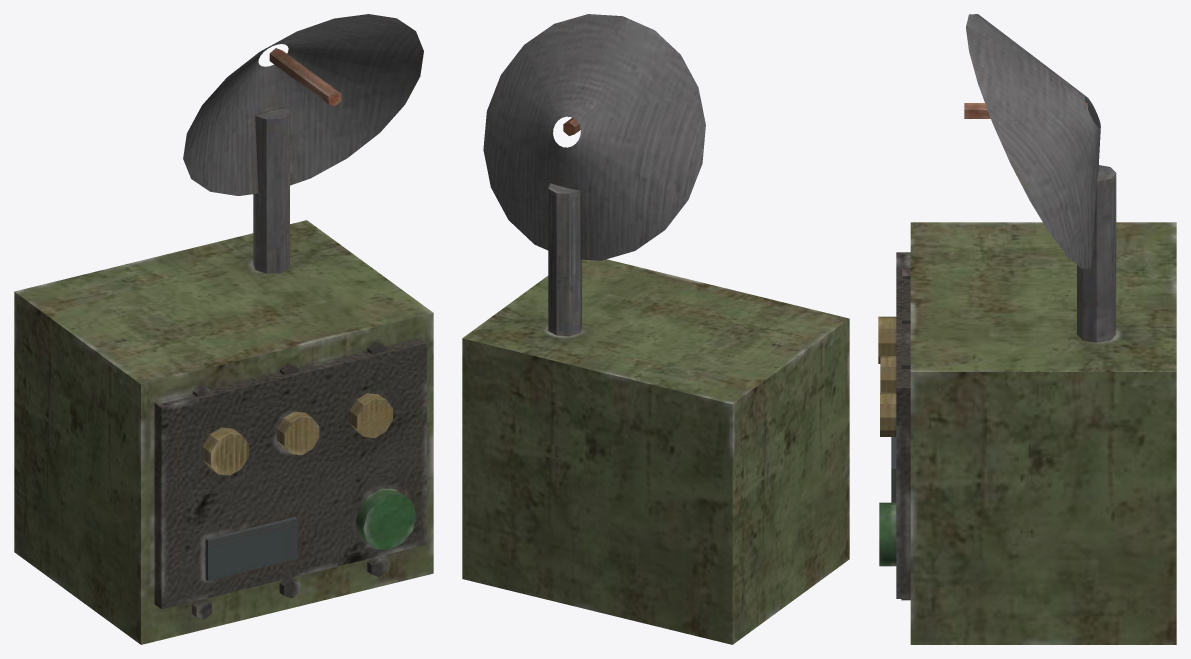
The model's file is feWirelessRx.glb.
3 views of the same model, side by side, from view 1: azimuth 30°, elevation 25°; view 2: azimuth 150°, elevation 25°; view 3: azimuth 270°, elevation 25° (orthographic). The views are drawn at different scales.
Visible parts, largest first — view 1: feWirelessRx_Base; view 2: feWirelessRx_Base; view 3: feWirelessRx_Base.
Part boxes in pixels (x1,y1,x2,y2): feWirelessRx_Base: (14,14,433,644); feWirelessRx_Base: (462,14,849,644); feWirelessRx_Base: (878,14,1176,644).
Size of the model in its own units: 0.4606 by 0.725 by 0.338.
Materials: 1 (1 with a texture image).
